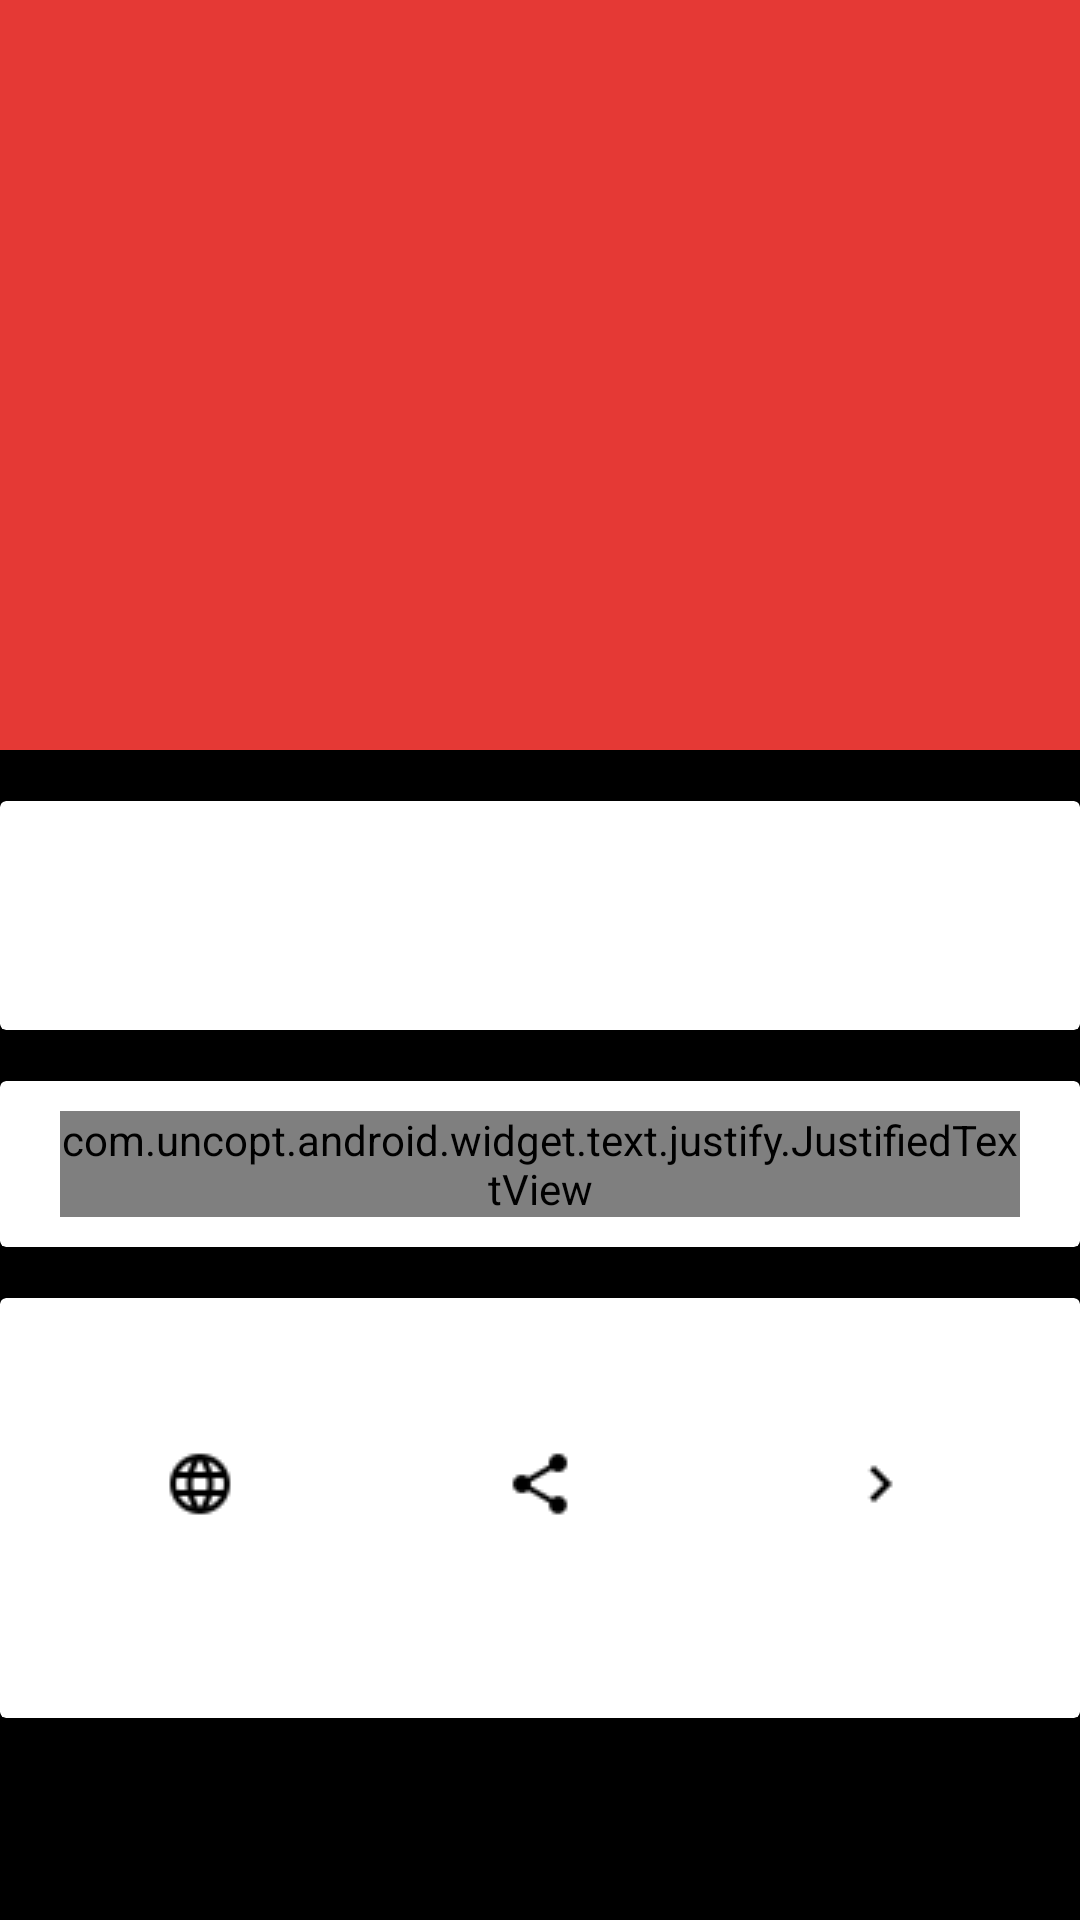

Icon bounding boxes for this 1080 × 1920 phone screenshot, format (x1, y1, x2, y2):
Open in browser: (169, 1453, 231, 1515)
Read next article: (868, 1465, 893, 1503)
Share this article: (512, 1453, 568, 1515)
